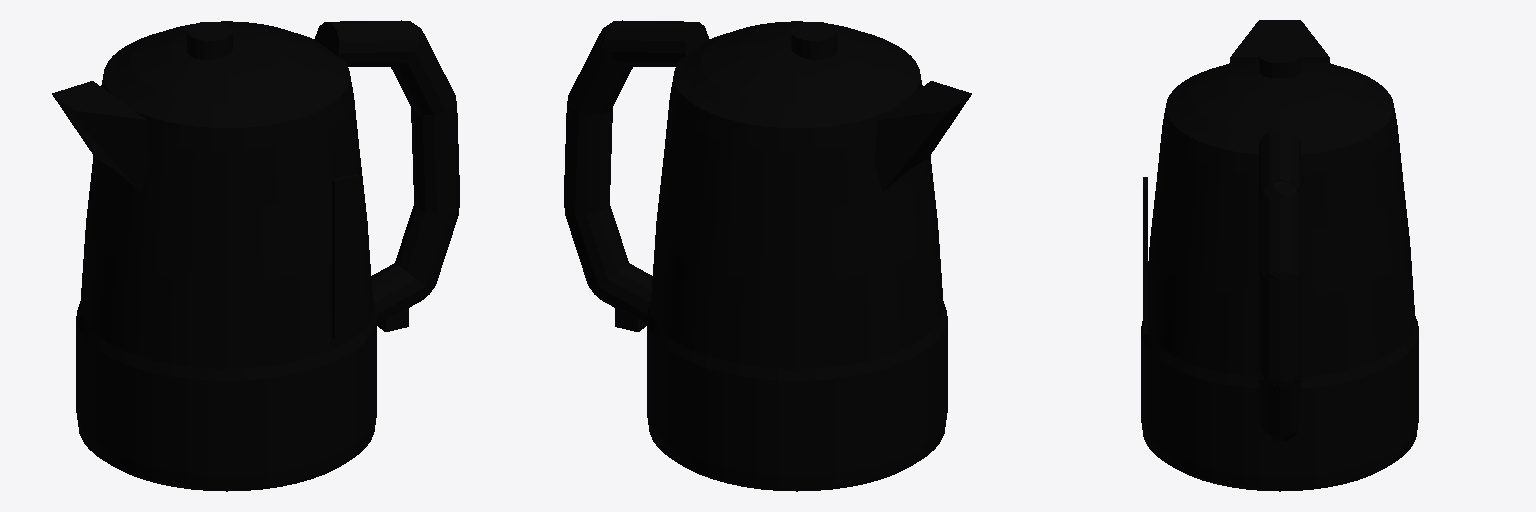
URDF robot description (nova_environment_object_0295):
<?xml version="1.0" encoding="utf-8"?>
<!-- Nova movable environment body for the bundled PyBullet launcher. SI metres/kg/radians. Loaded at its body origin; hinge/slider bodies use a fixed world_anchor base with one passive joint. Inertia is about COM. -->
<robot name="nova_environment_object_0295">
  <link name="body">
    <inertial>
      <origin xyz="0.008 0 0.095" rpy="0 0 0" />
      <mass value="0.85" />
      <inertia ixx="0.00524166667" iyy="0.00524166667" izz="0.00362666667" ixy="0" ixz="0" iyz="0" />
    </inertial>
    <visual>
      <origin xyz="0 0 0" rpy="0 0 0" />
      <geometry>
        <mesh filename="object_0295.obj" />
      </geometry>
      <material name="surface">
        <color rgba="0.06 0.06 0.06 1" />
      </material>
    </visual>
    <collision>
      <origin xyz="0 0 0" rpy="0 0 0" />
      <geometry>
        <mesh filename="object_0295_collision_00.obj" />
      </geometry>
    </collision>
    <collision>
      <origin xyz="0 0 0" rpy="0 0 0" />
      <geometry>
        <mesh filename="object_0295_collision_01.obj" />
      </geometry>
    </collision>
    <collision>
      <origin xyz="0 0 0" rpy="0 0 0" />
      <geometry>
        <mesh filename="object_0295_collision_02.obj" />
      </geometry>
    </collision>
    <collision>
      <origin xyz="0 0 0" rpy="0 0 0" />
      <geometry>
        <mesh filename="object_0295_collision_03.obj" />
      </geometry>
    </collision>
    <collision>
      <origin xyz="0 0 0" rpy="0 0 0" />
      <geometry>
        <mesh filename="object_0295_collision_04.obj" />
      </geometry>
    </collision>
  </link>
</robot>

--- Render facts (derived) ---
The picture shows the robot from 3 angles, left to right: view 1: azimuth 30°, elevation 25°; view 2: azimuth 150°, elevation 25°; view 3: azimuth 270°, elevation 25°; orthographic projection.
Model nova_environment_object_0295 with 1 links and 0 joints (none), rooted at body, posed every joint at zero.
Visible links, largest first — view 1: body; view 2: body; view 3: body.
Boxes of the visible links, x1,y1,x2,y2 form: body: (52,20,459,491); body: (564,20,971,491); body: (1141,20,1418,491).
Size in the robot's own frame: 0.236 by 0.156 by 0.232 metres.
1 mesh visuals loaded from 1 distinct referenced files (1 OBJ).
